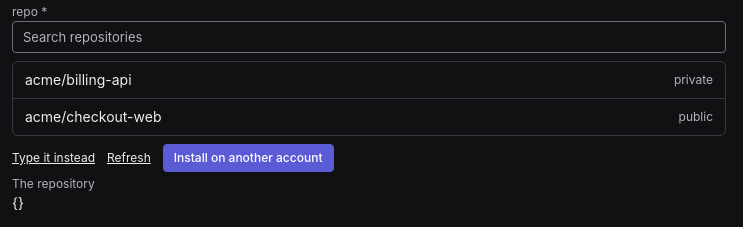
Test: a repository field with format github-repo (S40-04c) › filters the list by what is typed
The image size is (743, 227).
Check: the button "acme/billing-api private" is shown, box [13,62,725,98]
Step 1. Type "checkout" into the search field with placeholder "Search repositories" → [369, 37], box [12,21,726,53]
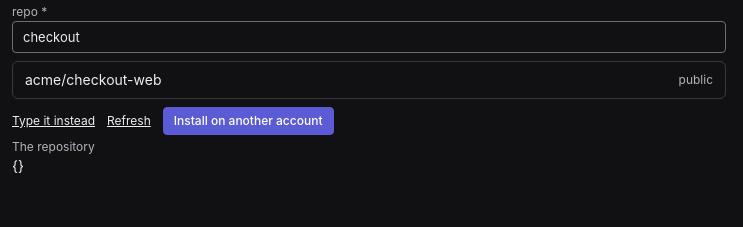
Check: the button "acme/billing-api" is gone
